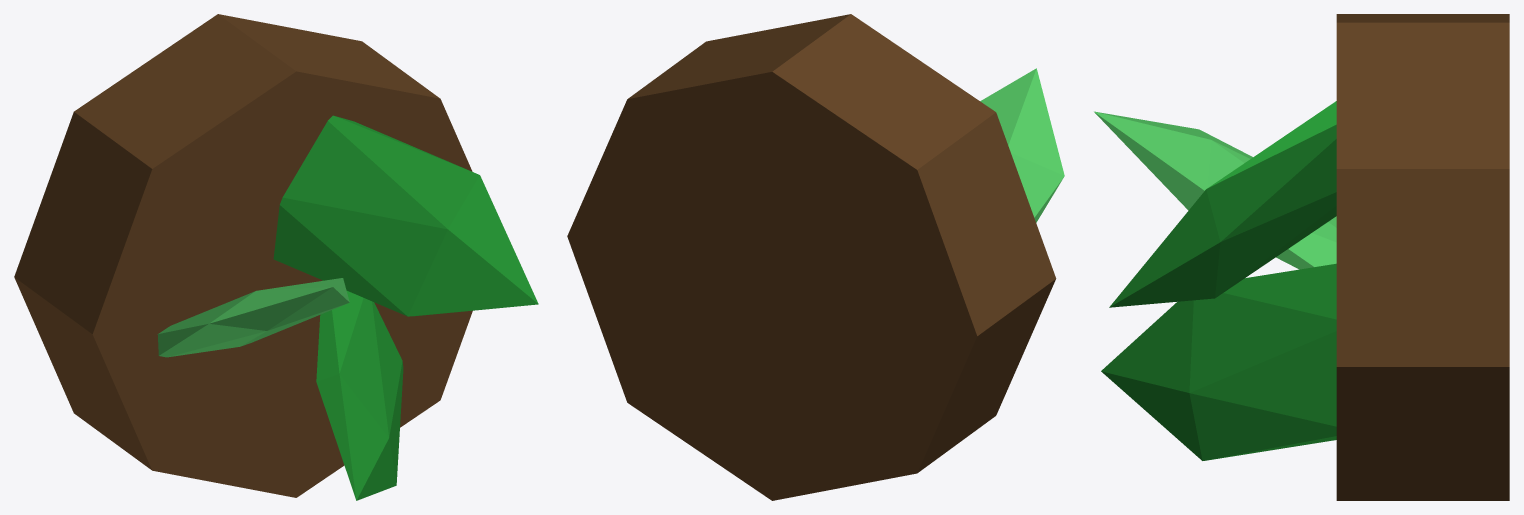
Rendered from 1_seedling.obj.
3 renders of one model, left to right at view 1: azimuth 30°, elevation 25°; view 2: azimuth 150°, elevation 25°; view 3: azimuth 270°, elevation 25°, orthographic. The views are drawn at different scales.
Parts seen in each view (by area): view 1: guam_1_seedling; view 2: guam_1_seedling; view 3: guam_1_seedling.
Boxes of the visible parts, left/top/right/bottom form: guam_1_seedling: left=14, top=14, right=538, bottom=500; guam_1_seedling: left=567, top=14, right=1064, bottom=500; guam_1_seedling: left=1094, top=14, right=1509, bottom=500.
Bounding box in the file's own units: 0.12 × 0.12 × 0.0963.
